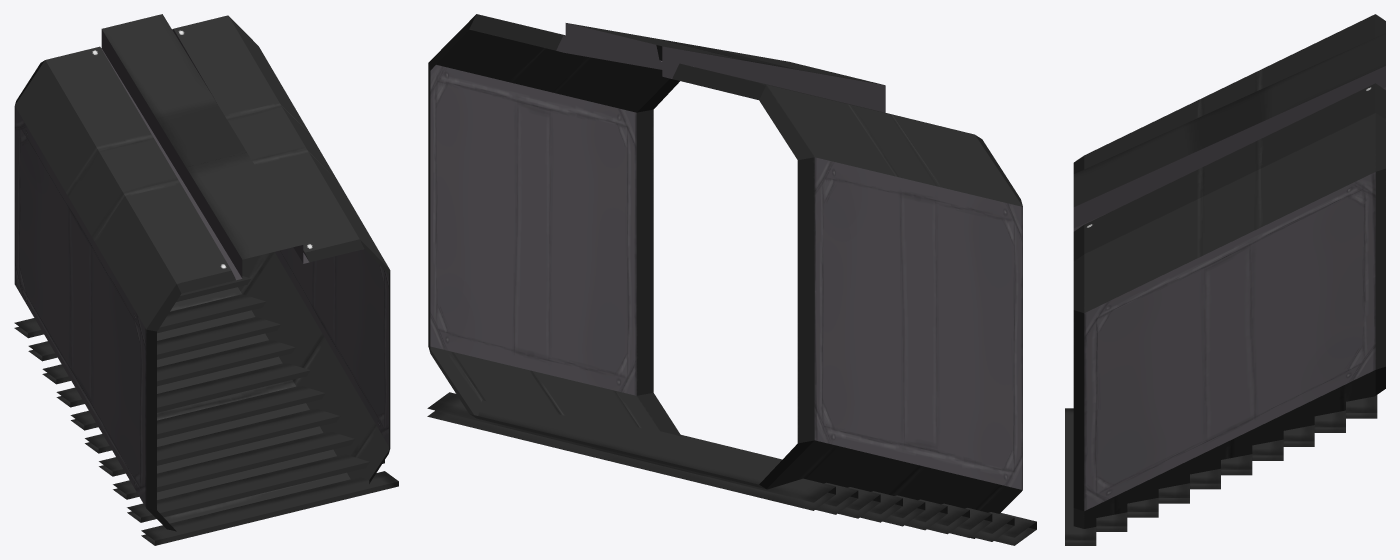
Rendered from pathway01_stairs.fbx.
3 views of the same model, side by side, from view 1: azimuth 30°, elevation 25°; view 2: azimuth 150°, elevation 25°; view 3: azimuth 270°, elevation 25° (orthographic). The views are drawn at different scales.
Visible parts, largest first — view 1: pathway01, pathway01stairs; view 2: pathway01, pathway01stairs; view 3: pathway01, pathway01stairs.
Part boxes in pixels (box(x1,y1,x2,y2)): pathway01: box(14, 14, 390, 531); pathway01stairs: box(14, 276, 398, 545); pathway01: box(428, 14, 1022, 538); pathway01stairs: box(427, 392, 1036, 545); pathway01: box(1073, 14, 1385, 528); pathway01stairs: box(1065, 395, 1377, 545).
Bounding box in the file's own units: 2 × 3.1 × 2.06.
1 material, 1 textured.
